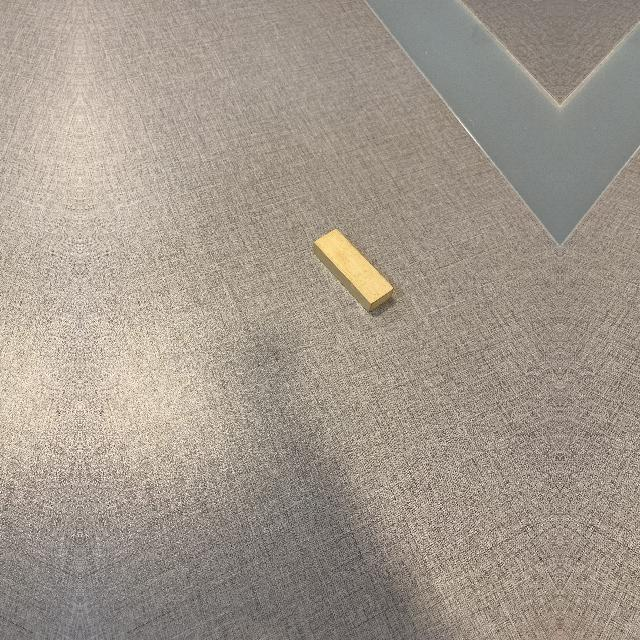jenga: (312, 229, 394, 313)
